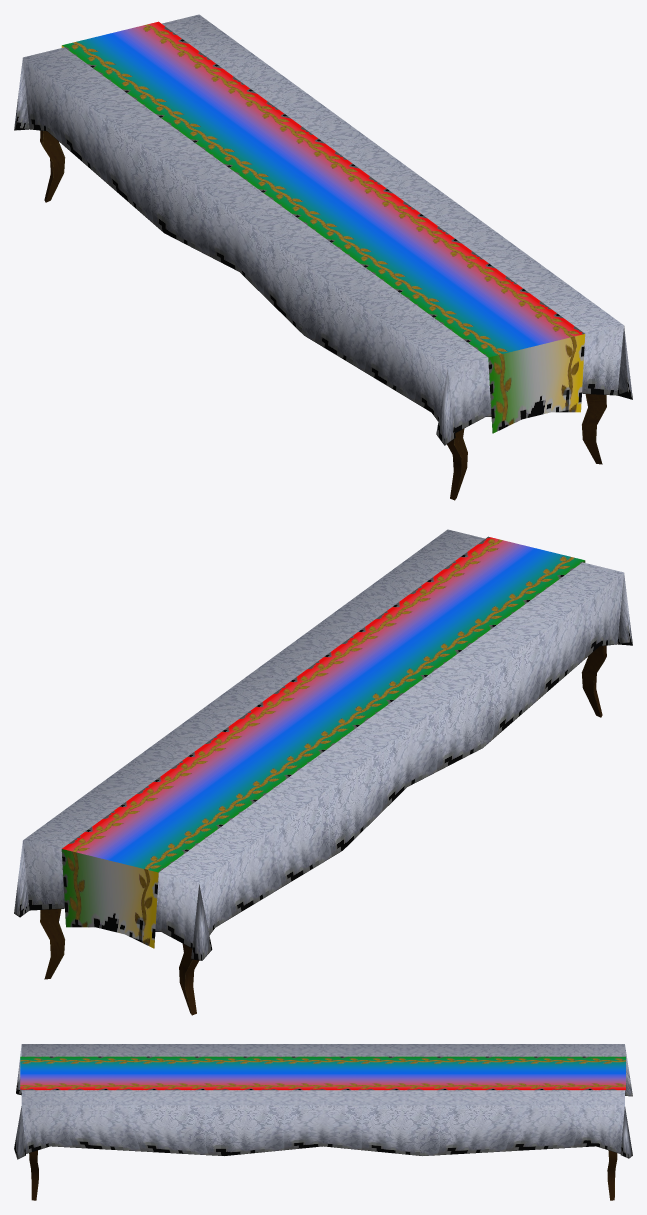
File: fancy_table.glb
3 renders of one model, top to bottom at view 1: azimuth 30°, elevation 25°; view 2: azimuth 150°, elevation 25°; view 3: azimuth 270°, elevation 25°, orthographic. The views are drawn at different scales.
Visible parts, largest first — view 1: Table__cloth, Table__wood; view 2: Table__cloth, Table__wood; view 3: Table__cloth, Table__wood.
Boxes of the visible parts, left/top/right/bottom form: Table__cloth: left=14, top=14, right=632, bottom=445; Table__wood: left=40, top=130, right=606, bottom=500; Table__cloth: left=14, top=529, right=632, bottom=960; Table__wood: left=40, top=645, right=606, bottom=1015; Table__cloth: left=14, top=1044, right=632, bottom=1159; Table__wood: left=29, top=1150, right=617, bottom=1200.
Size of the model in its own units: 1.41 by 0.9814 by 5.43.
Materials: 2 (2 with a texture image).
